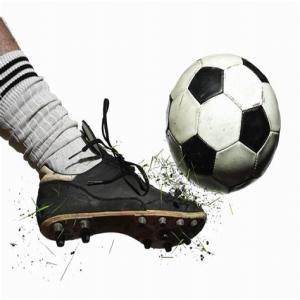Football: (164, 50, 283, 194)
